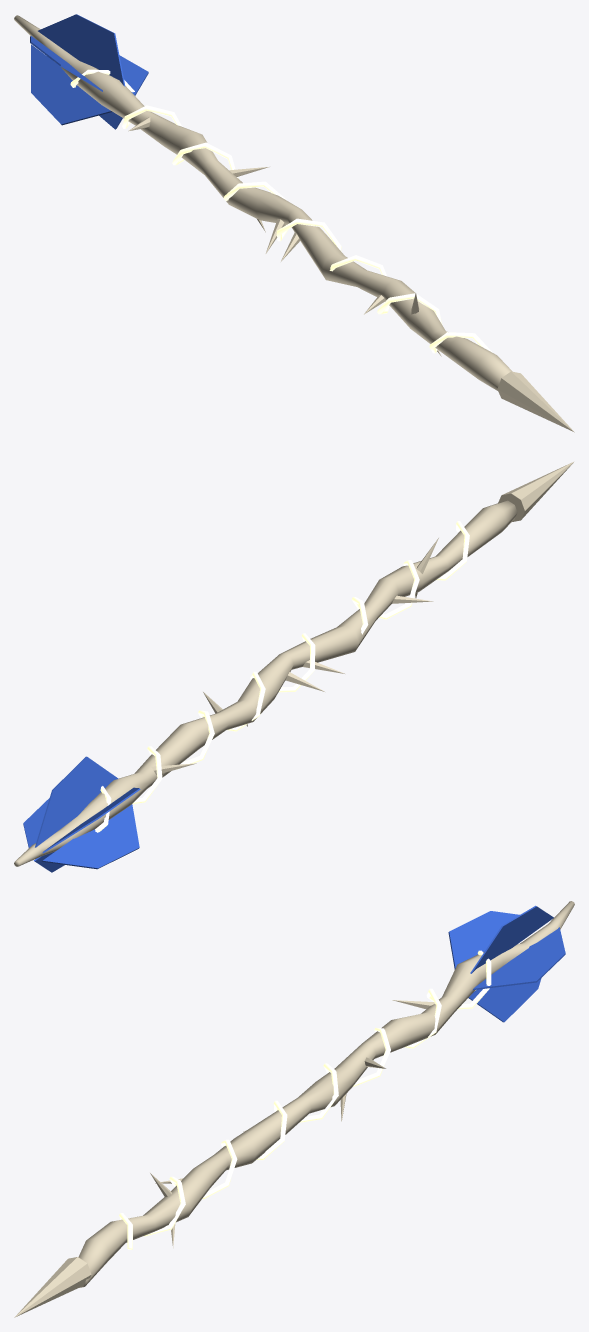
The model's file is OAKENSHIELD_thornspear.fbx.
The picture shows the model from 3 angles, top to bottom: view 1: azimuth 30°, elevation 25°; view 2: azimuth 150°, elevation 25°; view 3: azimuth 330°, elevation 25°; orthographic projection.
Visible parts, largest first — view 1: OAKENSHIELD_thornspear; view 2: OAKENSHIELD_thornspear; view 3: OAKENSHIELD_thornspear.
Part boxes in pixels (x1=…): OAKENSHIELD_thornspear: x1=14, y1=14, x2=574, y2=432; OAKENSHIELD_thornspear: x1=14, y1=461, x2=574, y2=872; OAKENSHIELD_thornspear: x1=14, y1=901, x2=574, y2=1317.
Bounding box in the file's own units: 0.1278 × 0.1338 × 1.4.
